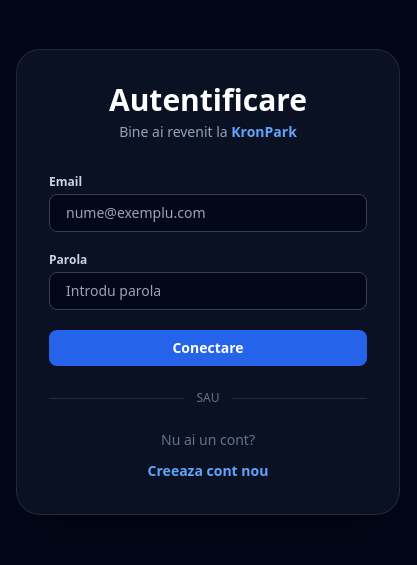
Scenario: Login Page › displays server error message when fetch fails
This screenshot has width=417, height=565.
Type "user@test.com" into the field with placeholder "nume@exemplu.com" at {"x": 208, "y": 213}, box [49,194,367,232]
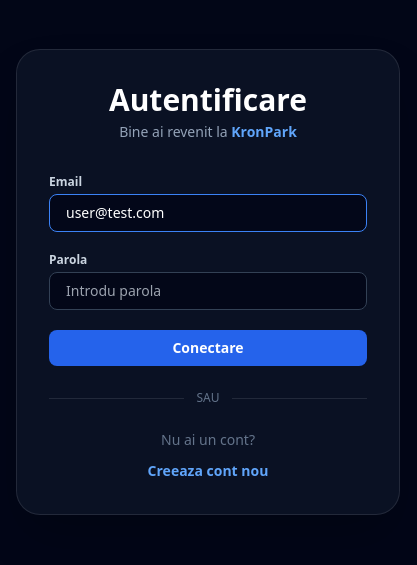
Type "password" into the password field with placeholder "Introdu parola" at {"x": 208, "y": 291}, box [49,272,367,310]
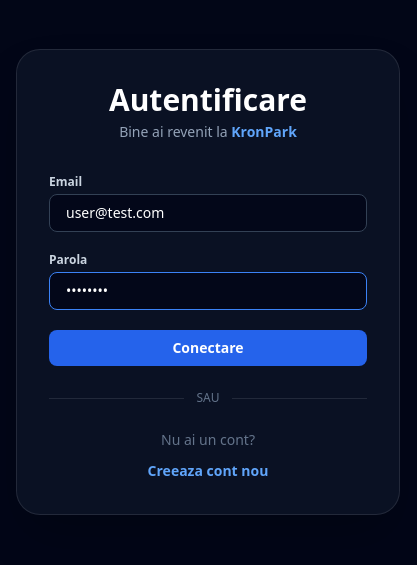
Click the button "Conectare" at {"x": 208, "y": 348}, box [49,330,367,366]
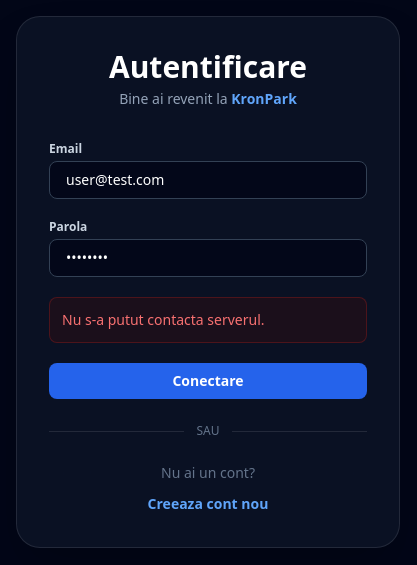
expect the text "Nu s-a putut contacta serverul." is shown: met, box [49,297,367,343]
